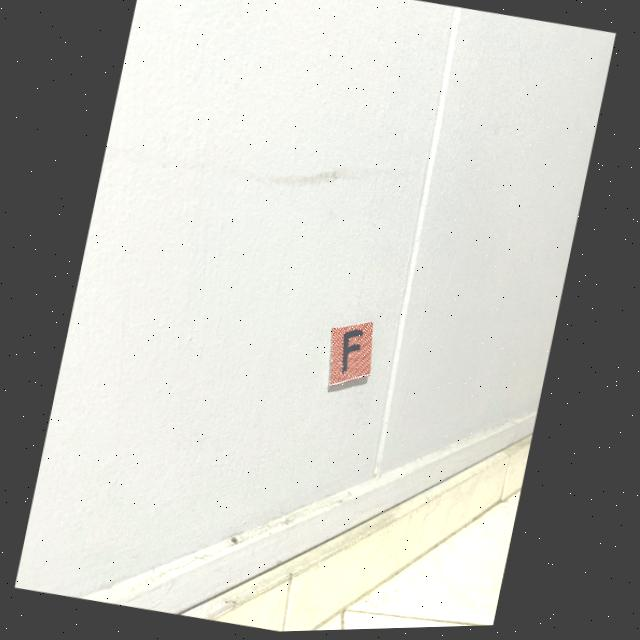F: (343, 333, 364, 377)
